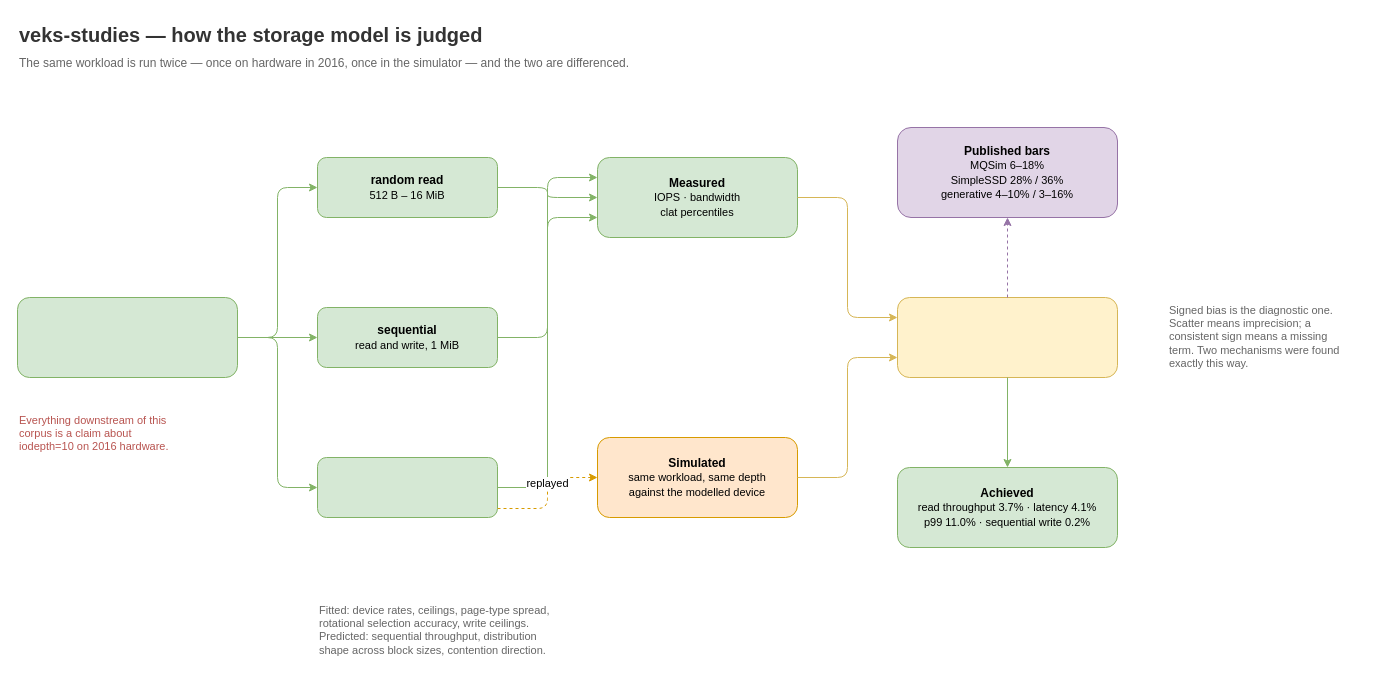
This 1385x694 diagram has some shape labels left out. The shapes that lost their labels are listed below. From the top down, each one's centre as x and y in pixels, then its label:
At (x=127, y=337): "perfscripts fio corpus direct=1 · libaio · iodepth=10 60 s · 3 devices".
At (x=1007, y=337): "Difference, per metric MAPE · worst case · signed bias".
At (x=407, y=487): "mixed reader vs capped writer".
